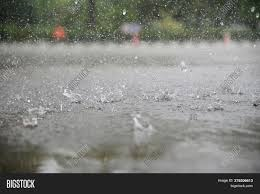Wet-floor: (7, 37, 259, 144)
